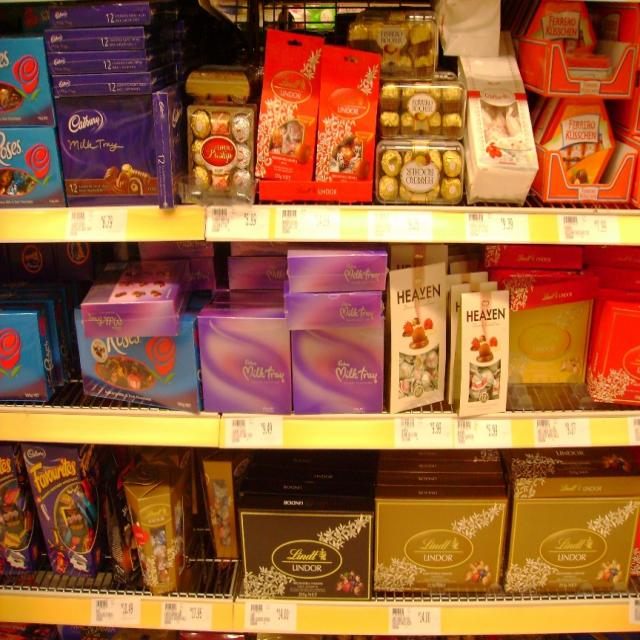q256: (75, 320, 200, 418), (0, 120, 66, 216)
